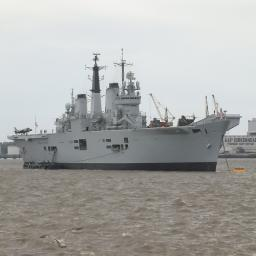Portanaves: (7, 46, 243, 176)
